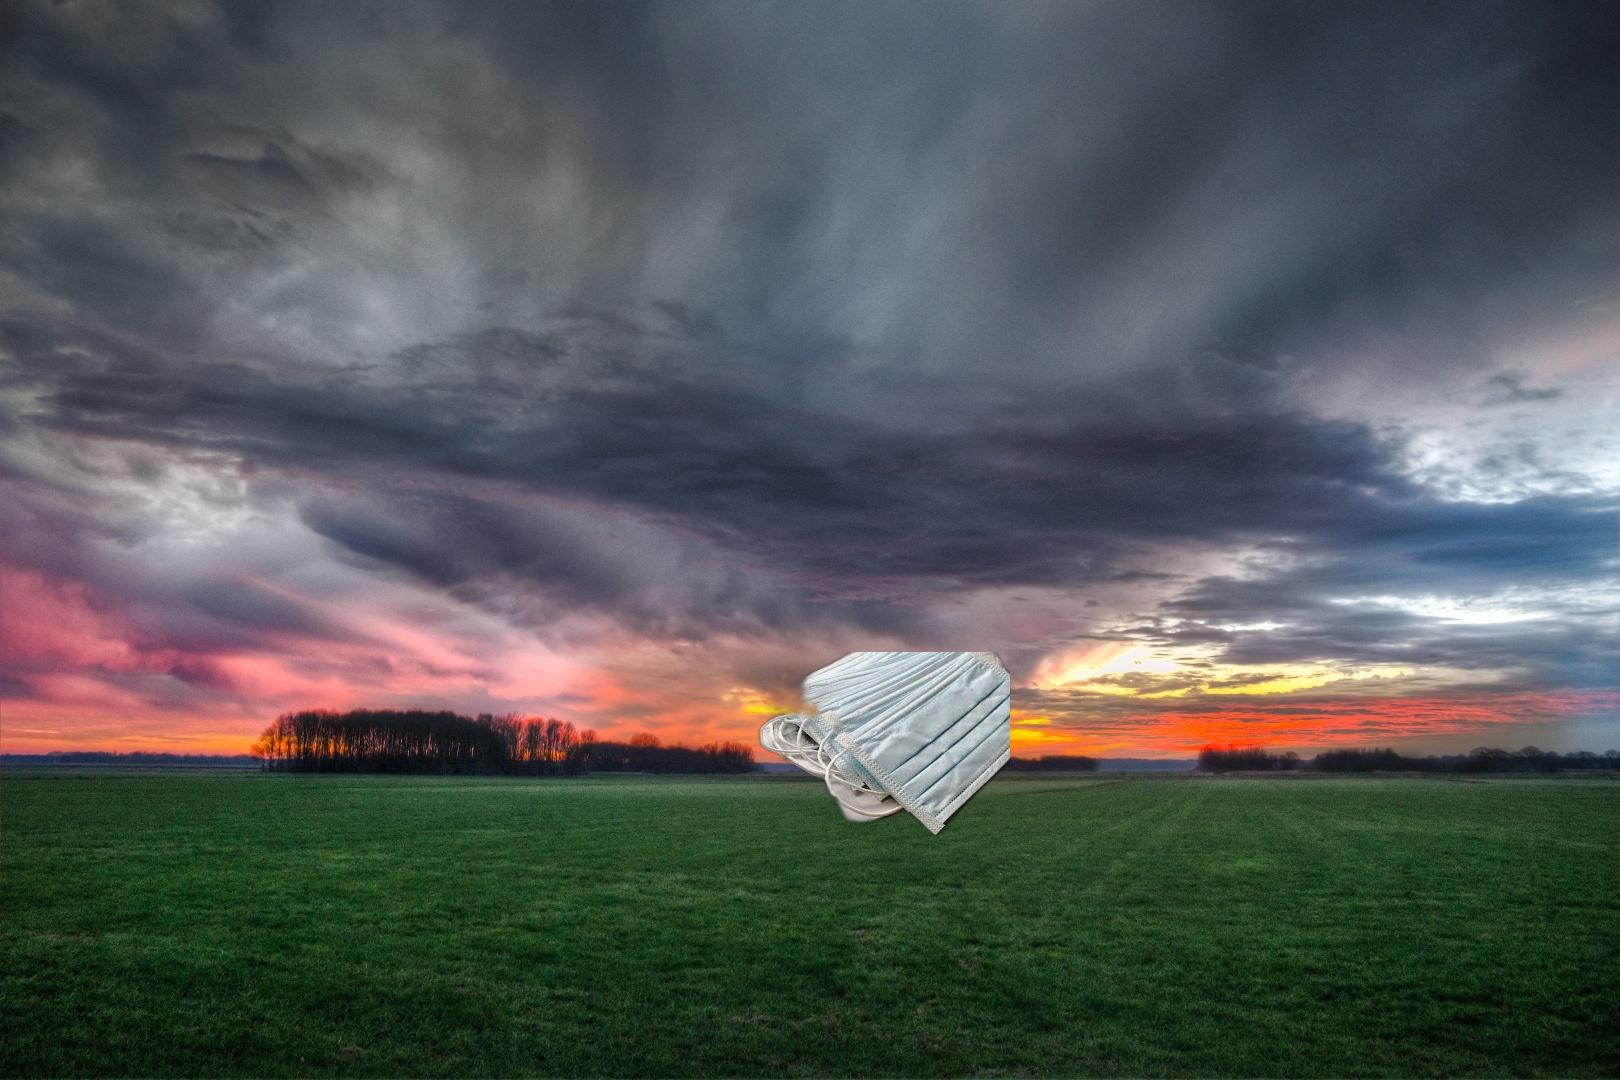trash: (751, 652, 1010, 841)
